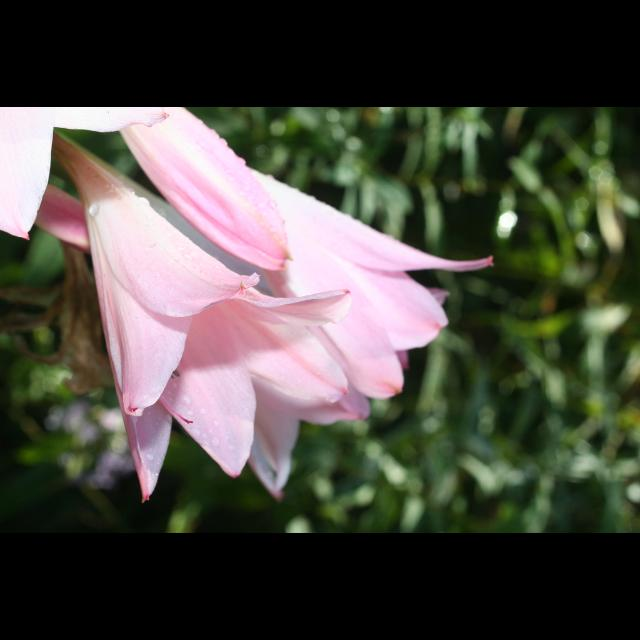Flower: (0, 107, 492, 509)
